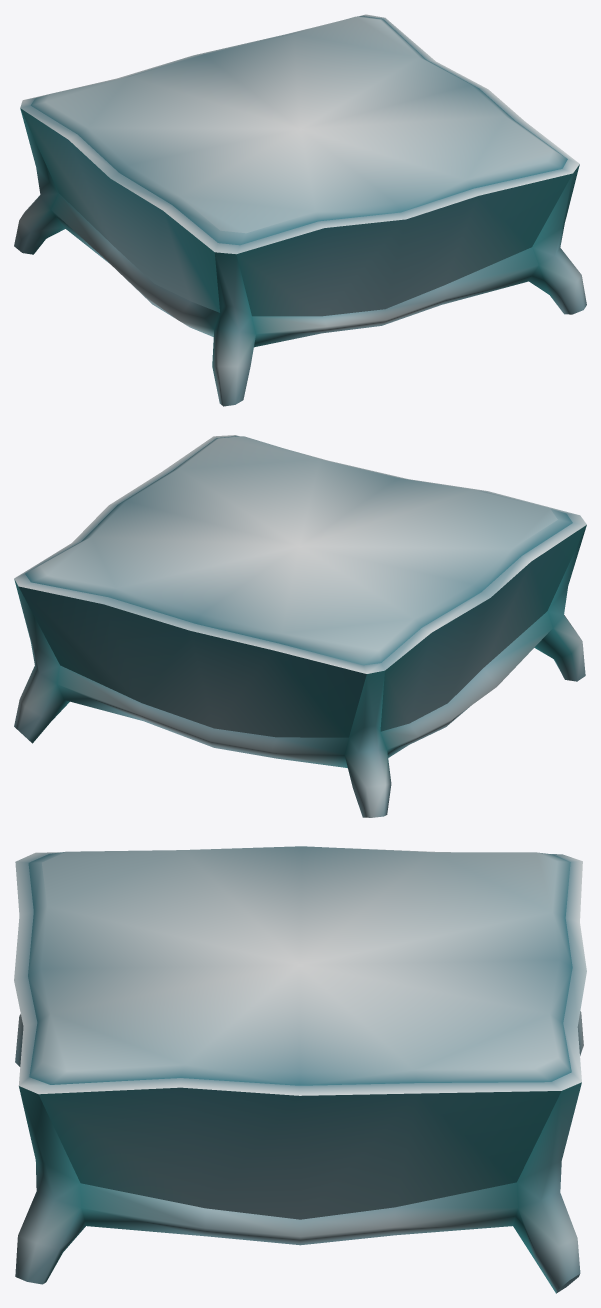
File: PlatformCavernLarge.gltf
The picture shows the model from 3 angles, top to bottom: view 1: azimuth 30°, elevation 25°; view 2: azimuth 150°, elevation 25°; view 3: azimuth 270°, elevation 25°; orthographic projection. The views are drawn at different scales.
Visible parts, largest first — view 1: PlatformCavernLargeMesh; view 2: PlatformCavernLargeMesh; view 3: PlatformCavernLargeMesh.
Part boxes in pixels (box(x1,y1,x2,y2)): PlatformCavernLargeMesh: box(14, 14, 586, 406); PlatformCavernLargeMesh: box(14, 435, 586, 817); PlatformCavernLargeMesh: box(14, 846, 586, 1293).
Bounding box in the file's own units: 4.98 × 2.12 × 4.89.
